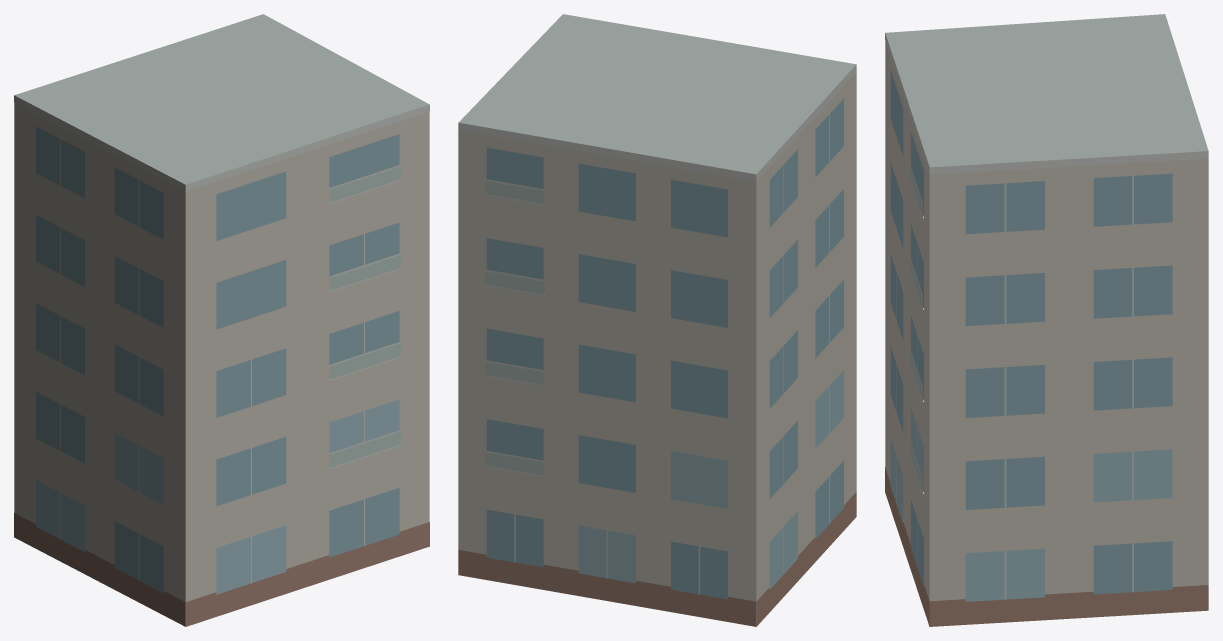
The model's file is survey-upis-32925394.glb.
3 renders of one model, left to right at view 1: azimuth 30°, elevation 25°; view 2: azimuth 150°, elevation 25°; view 3: azimuth 270°, elevation 25°, orthographic. The views are drawn at different scales.
Parts seen in each view (by area): view 1: survey-upis-32925394.tmp; view 2: survey-upis-32925394.tmp; view 3: survey-upis-32925394.tmp.
Part boxes in pixels (x1,y1,x2,y2): survey-upis-32925394.tmp: (14, 14, 429, 626); survey-upis-32925394.tmp: (458, 14, 856, 626); survey-upis-32925394.tmp: (885, 14, 1208, 626).
Bounding box in the file's own units: 10.78 × 15.05 × 9.61.
